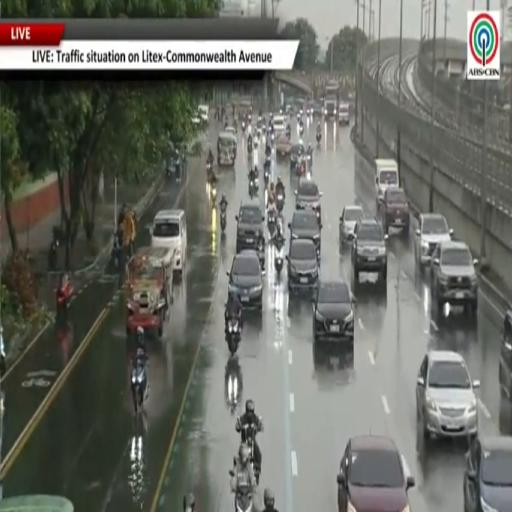bus: (0, 495, 74, 511)
car: (337, 435, 414, 511), (416, 350, 479, 439), (463, 436, 511, 511), (431, 240, 477, 314), (313, 280, 354, 348), (150, 210, 187, 276), (352, 218, 388, 285), (414, 214, 453, 268), (227, 250, 262, 310), (286, 239, 318, 293), (288, 210, 321, 260), (236, 201, 264, 252), (381, 187, 410, 235), (499, 310, 511, 402), (295, 179, 321, 221), (339, 205, 364, 247), (290, 144, 304, 170), (276, 135, 291, 156), (338, 102, 350, 125), (312, 102, 324, 118), (225, 126, 237, 140)
jeepney: (126, 247, 175, 335), (218, 132, 236, 166), (237, 101, 252, 121)
motorcycle: (242, 424, 260, 484), (225, 356, 243, 414), (131, 361, 147, 413), (56, 278, 73, 318), (48, 227, 63, 271), (226, 316, 241, 356), (235, 486, 253, 511), (111, 232, 122, 270), (48, 239, 59, 271), (0, 327, 6, 378), (274, 246, 283, 277), (268, 208, 276, 237), (258, 242, 265, 275), (276, 192, 284, 213), (220, 206, 226, 233), (249, 174, 258, 190), (211, 184, 217, 207), (299, 159, 305, 177), (264, 156, 271, 170), (264, 169, 269, 187), (248, 140, 253, 156), (307, 153, 312, 169), (316, 132, 321, 143), (270, 133, 275, 143), (262, 122, 266, 134), (299, 124, 303, 136), (242, 121, 246, 132), (286, 130, 290, 140), (297, 112, 300, 122), (300, 109, 303, 118)
truck: (375, 158, 399, 204), (324, 82, 339, 119)
